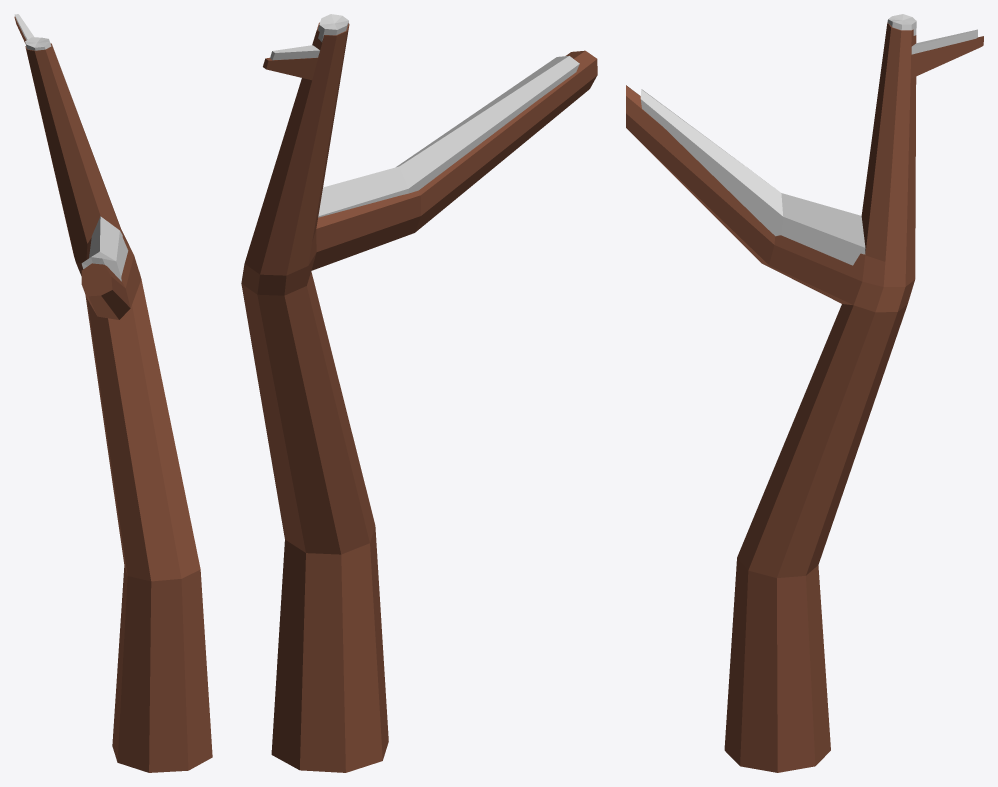
The model's file is Tree_02_winter_mat.fbx.
The picture shows the model from 3 angles, left to right: view 1: azimuth 30°, elevation 25°; view 2: azimuth 150°, elevation 25°; view 3: azimuth 270°, elevation 25°; orthographic projection. The views are drawn at different scales.
Visible parts, largest first — view 1: Tree_02_winter_mat; view 2: Tree_02_winter_mat; view 3: Tree_02_winter_mat.
Part boxes in pixels (x1,y1,x2,y2): Tree_02_winter_mat: (14, 14, 212, 772); Tree_02_winter_mat: (241, 14, 597, 772); Tree_02_winter_mat: (626, 14, 983, 772).
Size of the model in its own units: 1.63 by 5.32 by 2.46.
